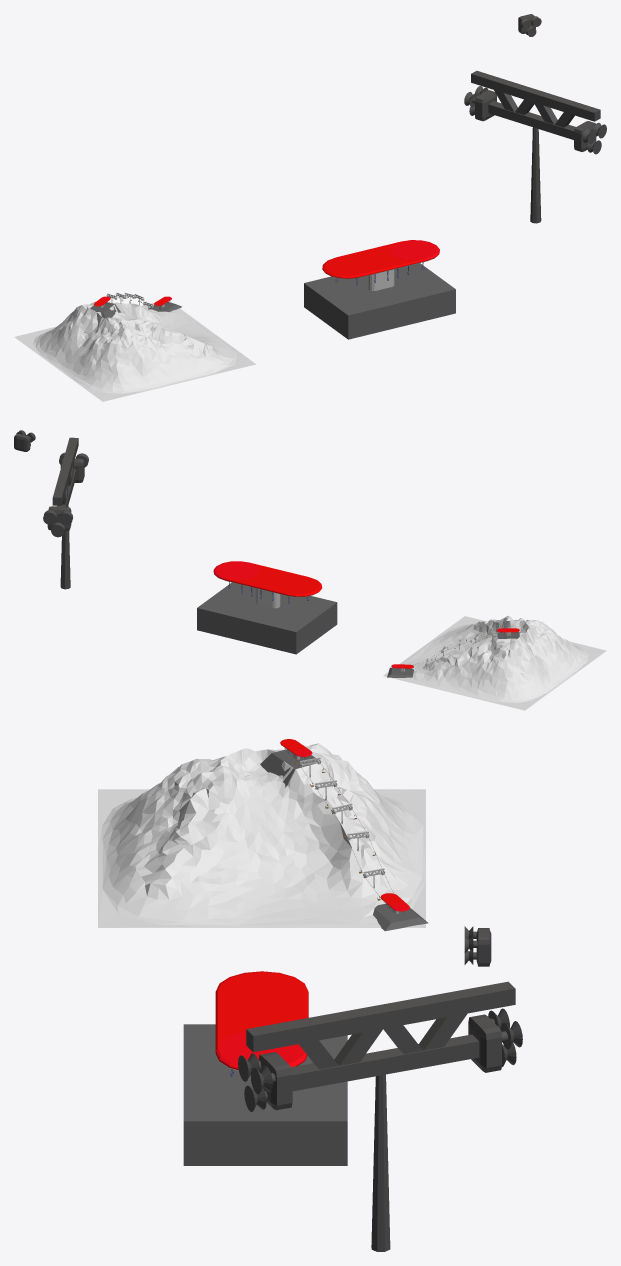
The model's file is snowy_slope_t.glb.
3 views of the same model, one above another, from view 1: azimuth 30°, elevation 25°; view 2: azimuth 150°, elevation 25°; view 3: azimuth 270°, elevation 25° (orthographic). The views are drawn at different scales.
Parts seen in each view (by area): view 1: Landscape, Cube.004, Cube.088, Cube.003, Cylindre.006, Cube.087, Cylindre.008, Cylindre.074; view 2: Landscape, Cube.004, Cube.003, Cylindre.006, Cube.088, Cylindre.008, Cylindre.074; view 3: Landscape, Cube.004, Cube.088, Cube.087, Cylindre.074, Cylindre.006, Cube.003, Cylindre.008, Cube.086, Cube.085, Cube.090, Cube.091.
Part boxes in pixels (x1,y1,x2,y2): Landscape: (14,292,256,401); Cube.004: (304,263,455,339); Cube.088: (471,70,600,121); Cube.003: (338,242,427,290); Cylindre.006: (322,256,376,290); Cube.087: (488,101,575,139); Cylindre.008: (390,240,439,286); Cylindre.074: (530,127,541,223); Landscape: (383,615,606,710); Cube.004: (197,582,337,654); Cube.003: (225,562,307,607); Cylindre.006: (272,576,322,608); Cube.088: (52,437,78,505); Cylindre.008: (213,561,259,604); Cylindre.074: (60,506,70,589); Landscape: (98,739,428,931); Cube.004: (183,1024,347,1165); Cube.088: (246,981,515,1052); Cube.087: (291,1034,479,1091); Cylindre.074: (371,1074,390,1251); Cylindre.006: (216,971,307,1009); Cube.003: (215,991,308,1052); Cylindre.008: (215,1031,307,1070); Cube.086: (468,1014,501,1072); Cube.085: (259,1052,292,1110); Cube.090: (418,1013,467,1050); Cube.091: (334,1029,382,1065).
Bounding box in the file's own units: 7.13 × 2.5 × 2.59.
